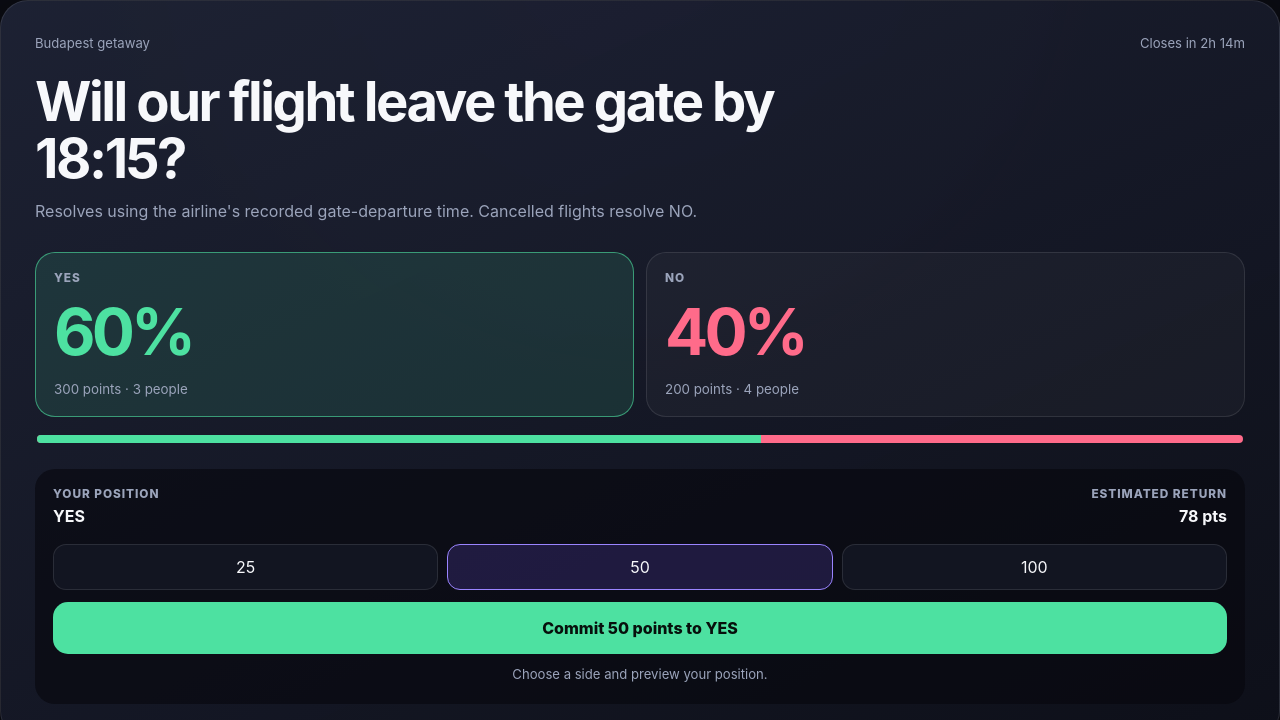
Test: DemoMarket › moves the visible market after a demo position
This screenshot has width=1280, height=720.
Expected: the text "60%" is shown, [54, 293, 192, 370]
Click the button "100": (1034, 567) [842, 544, 1227, 590]
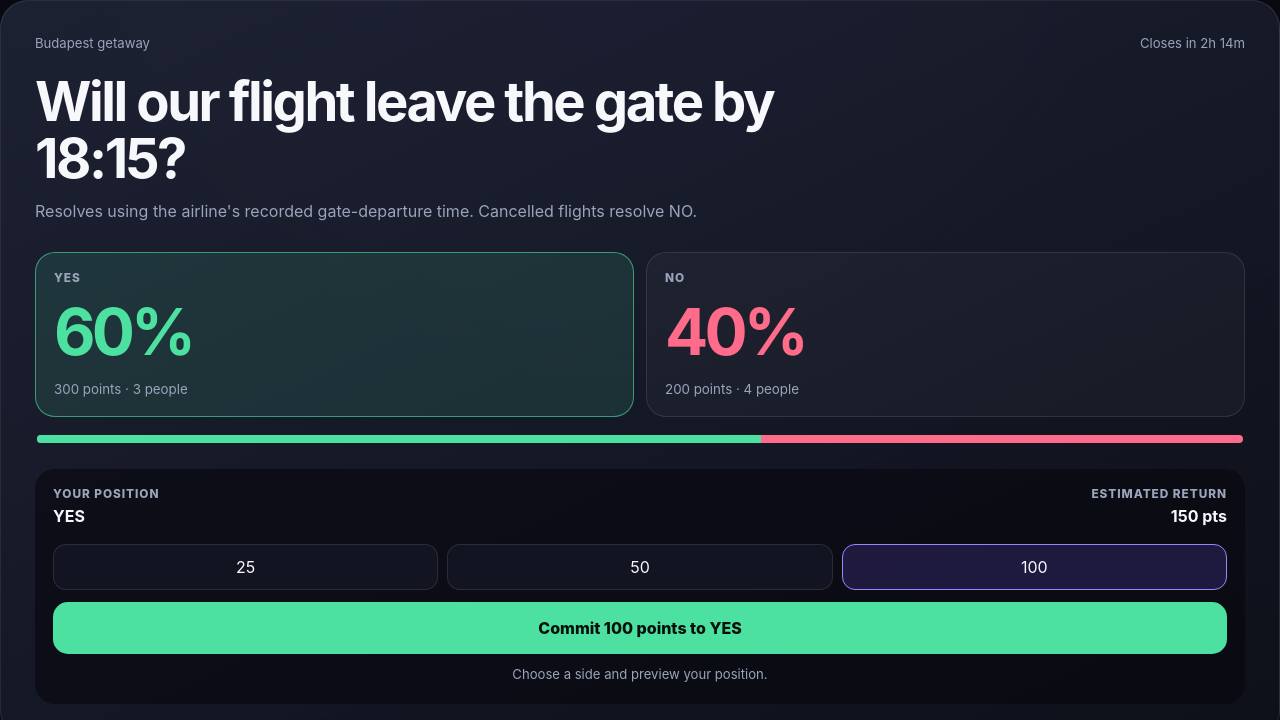
Click the button "Commit 100 points to YES": (640, 628) [53, 602, 1227, 654]
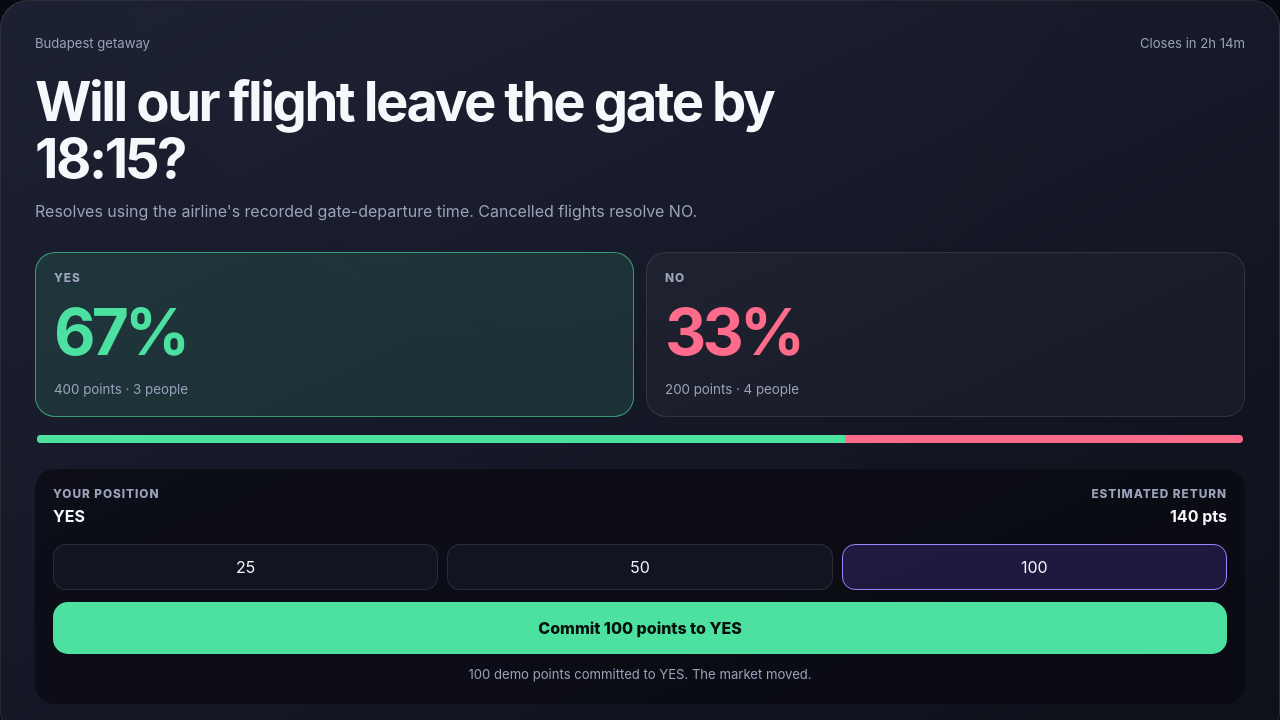
Now the text "67%" is shown, box [54, 293, 186, 370]
Now the text "100 demo points committed to YES. The market moved." is shown, box [468, 666, 812, 682]
